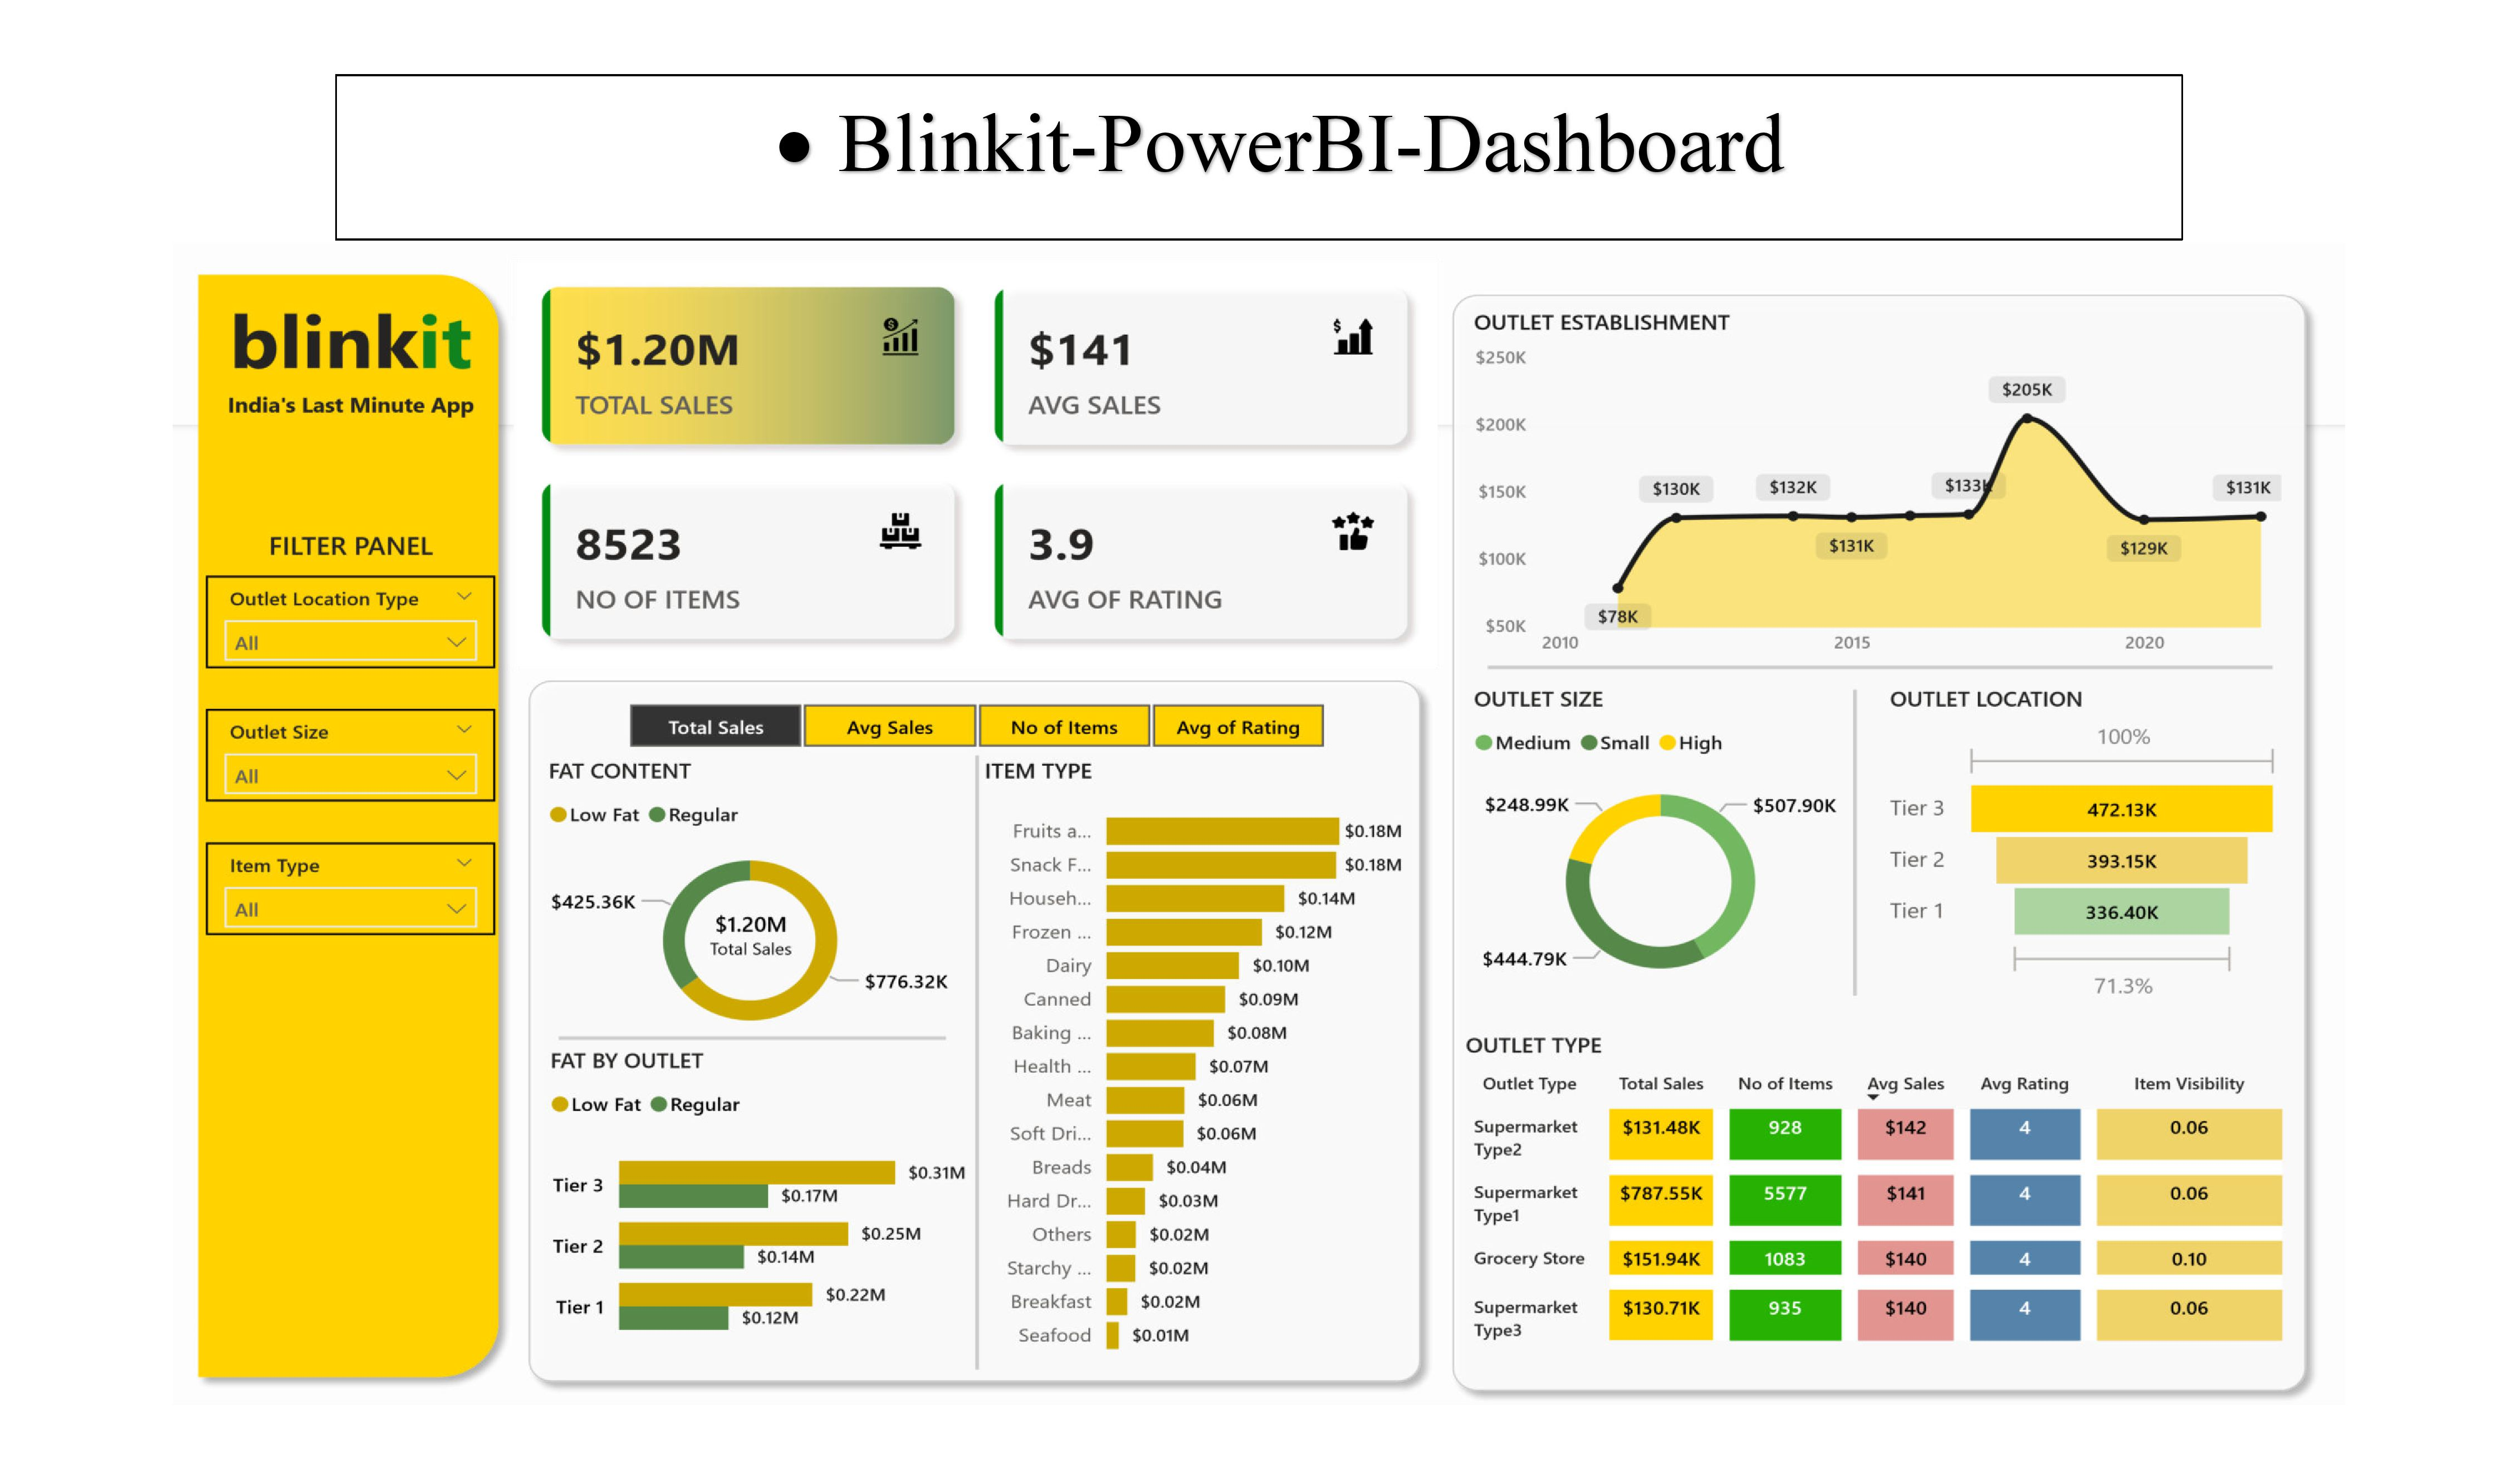

This screenshot's page, from the dashboard's own definition file:
{"tool":"powerbi","page":{"name":"Page 1","canvas":[1400,800],"ordinal":0},"visuals":[{"type":"shape","box":[35.7,52.9,198.6,738.6],"z":0},{"type":"textbox","box":[55.7,65.7,161.4,84.3],"z":1000},{"type":"textbox","box":[37.1,132.9,198.6,52.9],"z":2000},{"type":"cardVisual","fields":{"Data":["BlinkIT Grocery Data.Total Sales","BlinkIT Grocery Data.Avg Sales","BlinkIT Grocery Data.No of Items","BlinkIT Grocery Data.Avg of Rating"]},"box":[234.3,52.9,552.9,265.7],"z":3000},{"type":"shape","box":[234.1,318.2,552.3,475.8],"z":4000},{"type":"donutChart","title":"FAT CONTENT ","fields":{"Y":["BlinkIT Grocery Data.Total Sales"],"Category":["BlinkIT Grocery Data.Item Fat Content"]},"box":[250,377.1,251.4,192.9],"z":5000},{"type":"slicer","fields":{"Values":["Metrics.Metrics"]},"box":[277.7,336.2,465.3,40.5],"z":6000},{"type":"cardVisual","fields":{"Data":["BlinkIT Grocery Data.Total Sales"]},"box":[334.3,450,84.3,85.7],"z":7000},{"type":"clusteredBarChart","title":"FAT BY OUTLET","fields":{"Y":["BlinkIT Grocery Data.Total Sales"],"Category":["BlinkIT Grocery Data.Outlet Location Type"],"Series":["BlinkIT Grocery Data.Item Fat Content"]},"box":[251.4,565.7,260,207.1],"z":8000},{"type":"shape","box":[261.4,544.3,231.4,32.9],"z":9000},{"type":"shape","box":[432.9,375.7,157.1,401.4],"z":10000},{"type":"barChart","title":"ITEM TYPE ","fields":{"Y":["BlinkIT Grocery Data.Total Sales"],"Category":["BlinkIT Grocery Data.Item Type"]},"box":[511.4,377.1,260,400],"z":11000},{"type":"shape","box":[787.1,65.7,528.6,734.3],"z":12000},{"type":"lineChart","title":"OUTLET ESTABLISHMENT","fields":{"Y":["BlinkIT Grocery Data.Total Sales"],"Category":["BlinkIT Grocery Data.Outlet Establishment Year"]},"box":[804.3,84.3,492.9,234.3],"z":13000},{"type":"shape","box":[817.1,130,470,377.1],"z":14000},{"type":"donutChart","title":"OUTLET SIZE","fields":{"Y":["BlinkIT Grocery Data.Total Sales"],"Category":["BlinkIT Grocery Data.Outlet Size"]},"box":[804.3,330,232.9,210],"z":15000},{"type":"shape","box":[971.4,332.9,131.4,200],"z":16000},{"type":"funnel","title":"OUTLET LOCATION ","fields":{"Y":["Sum(BlinkIT Grocery Data.Sales)"],"Category":["BlinkIT Grocery Data.Outlet Location Type"]},"box":[1052.9,330,244.3,210],"z":17000},{"type":"pivotTable","title":"OUTLET TYPE","fields":{"Rows":["BlinkIT Grocery Data.Outlet Type"],"Values":["BlinkIT Grocery Data.Total Sales","BlinkIT Grocery Data.No of Items","BlinkIT Grocery Data.Avg Sales","BlinkIT Grocery Data.Avg of Rating","Avg(BlinkIT Grocery Data.Item Visibility)"]},"box":[804.3,555.7,510,217.1],"z":18000},{"type":"slicer","fields":{"Values":["BlinkIT Grocery Data.Outlet Location Type"]},"box":[50,258.6,172.9,60],"z":19000},{"type":"slicer","fields":{"Values":["BlinkIT Grocery Data.Outlet Size"]},"box":[50,345.7,172.9,60],"z":20000},{"type":"slicer","fields":{"Values":["BlinkIT Grocery Data.Item Type"]},"box":[50,432.9,172.9,60],"z":21000},{"type":"textbox","box":[38.6,222.9,195.7,35.7],"z":21001}]}

Visuals, with their boxes on the page's 1400x800 design canvas (x1, y1, x2, y2). These are canvas units, not pixel positions in the 2520x1476 screenshot, which may show the page scaled, cropped or inside an application window:
shape: l=36, t=53, r=234, b=792
textbox: l=56, t=66, r=217, b=150
textbox: l=37, t=133, r=236, b=186
cardVisual - BlinkIT Grocery Data.Total Sales x BlinkIT Grocery Data.Avg Sales: l=234, t=53, r=787, b=319
shape: l=234, t=318, r=786, b=794
"FAT CONTENT " donutChart: l=250, t=377, r=501, b=570
slicer - Metrics.Metrics: l=278, t=336, r=743, b=377
cardVisual - BlinkIT Grocery Data.Total Sales: l=334, t=450, r=419, b=536
"FAT BY OUTLET" clusteredBarChart: l=251, t=566, r=511, b=773
shape: l=261, t=544, r=493, b=577
shape: l=433, t=376, r=590, b=777
"ITEM TYPE " barChart: l=511, t=377, r=771, b=777
shape: l=787, t=66, r=1316, b=800
"OUTLET ESTABLISHMENT" lineChart: l=804, t=84, r=1297, b=319
shape: l=817, t=130, r=1287, b=507
"OUTLET SIZE" donutChart: l=804, t=330, r=1037, b=540
shape: l=971, t=333, r=1103, b=533
"OUTLET LOCATION " funnel: l=1053, t=330, r=1297, b=540
"OUTLET TYPE" pivotTable: l=804, t=556, r=1314, b=773
slicer - BlinkIT Grocery Data.Outlet Location Type: l=50, t=259, r=223, b=319
slicer - BlinkIT Grocery Data.Outlet Size: l=50, t=346, r=223, b=406
slicer - BlinkIT Grocery Data.Item Type: l=50, t=433, r=223, b=493
textbox: l=39, t=223, r=234, b=259
